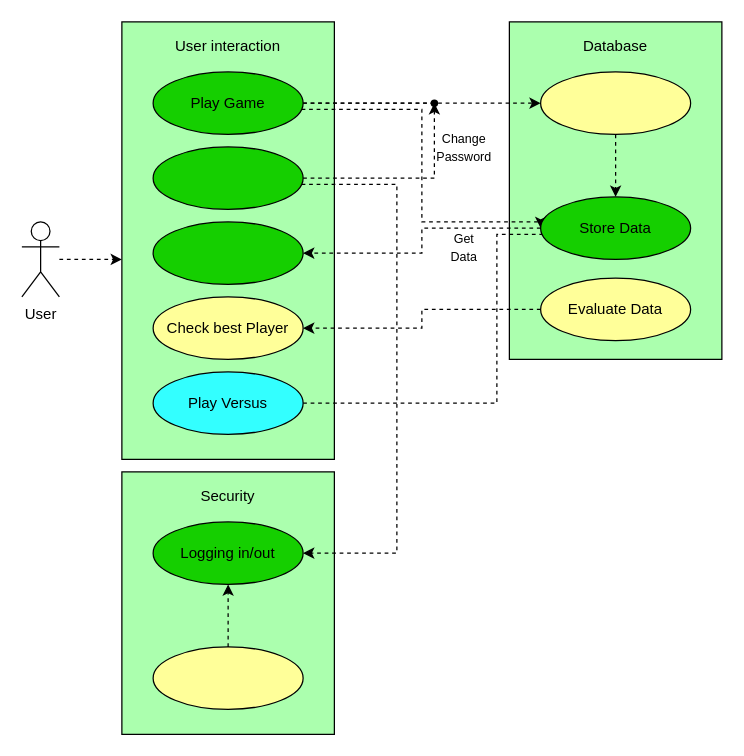
This 744x756 diagram has some shape labels left out. Here are the shapes that lost their labels. From the top down, the box of each, then its label:
(539, 71, 691, 134): Update Data
(152, 146, 303, 209): Manage Account
(152, 221, 303, 284): Check Statistics
(152, 646, 303, 709): Token System
